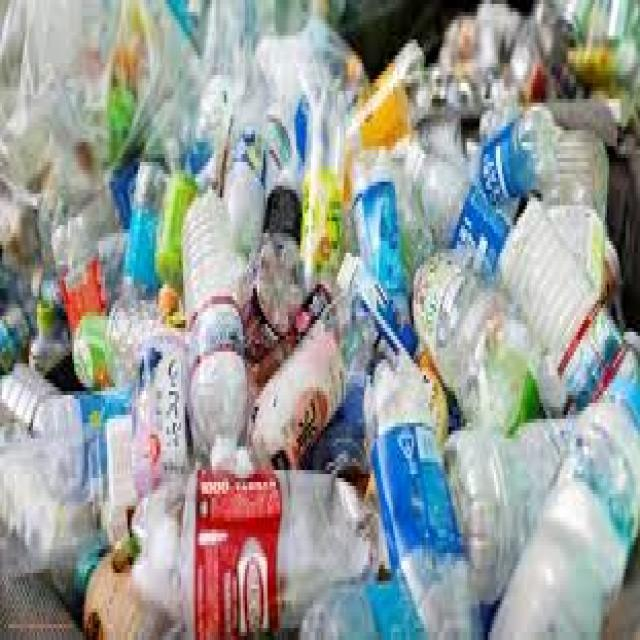heap: (23, 26, 640, 631)
